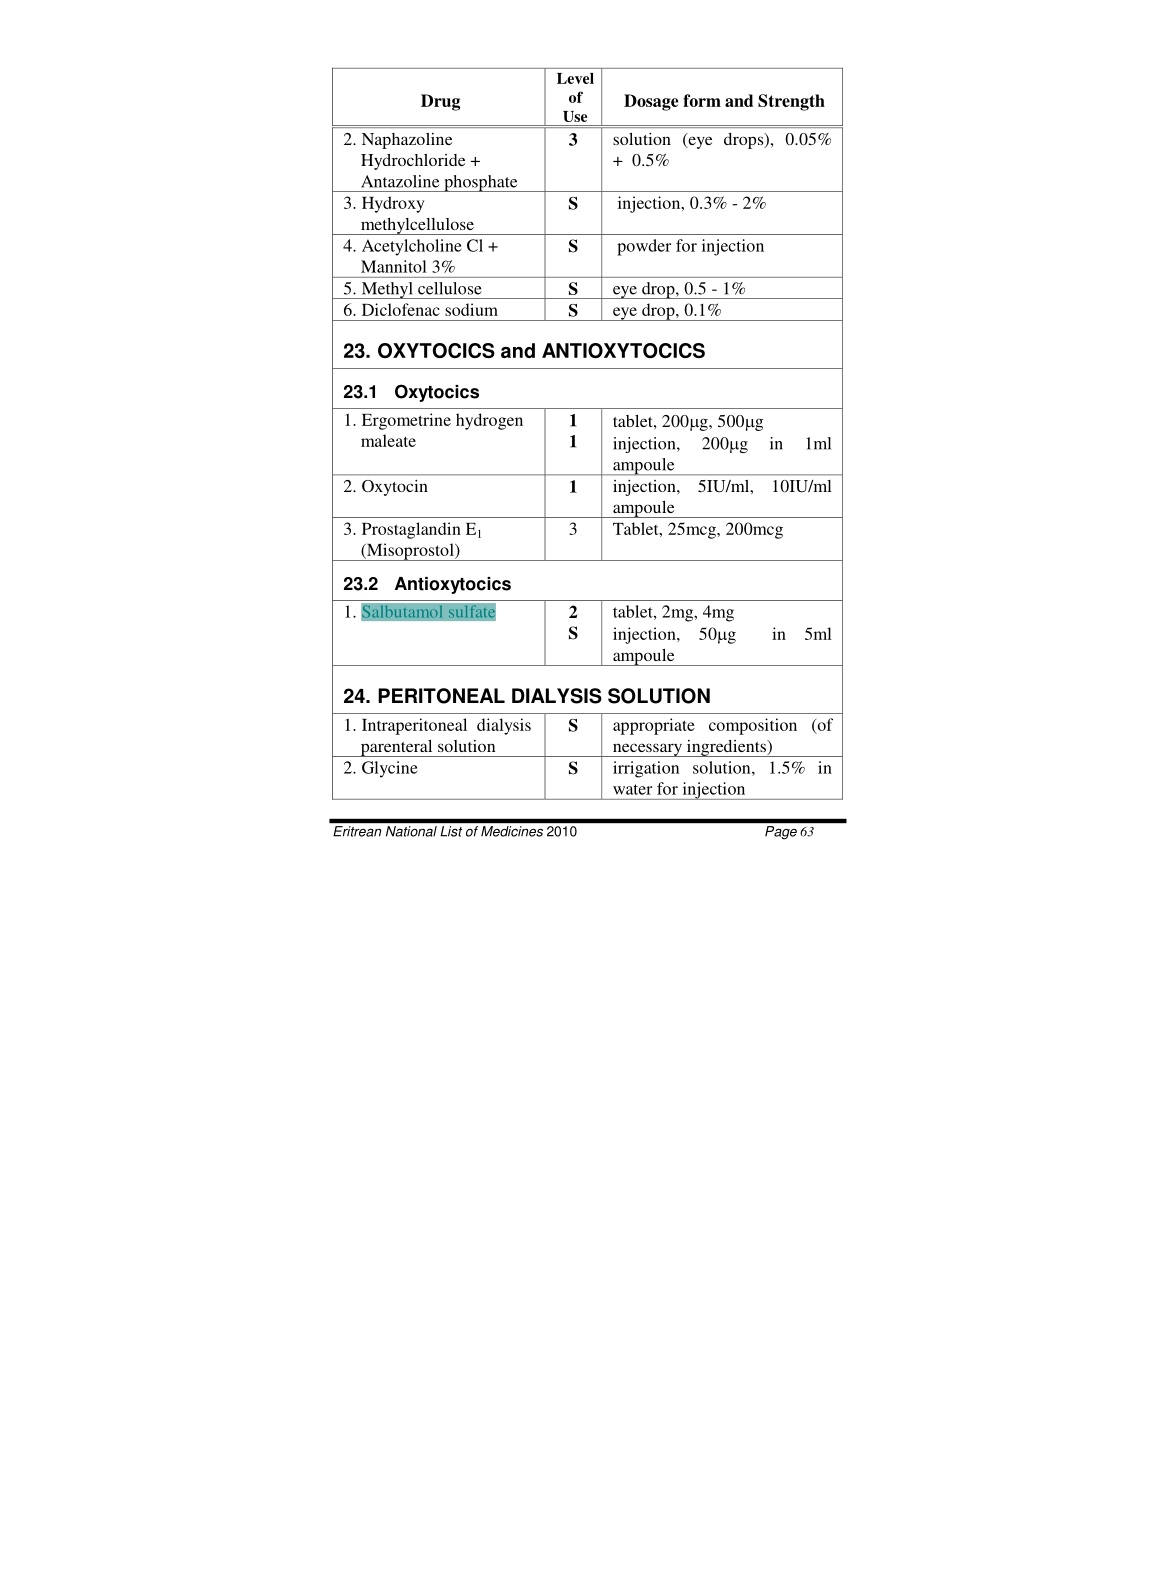merged_cells: (331, 67, 842, 801)
